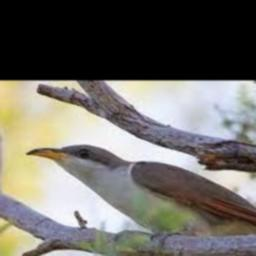Cuckoo: (28, 144, 256, 240)
